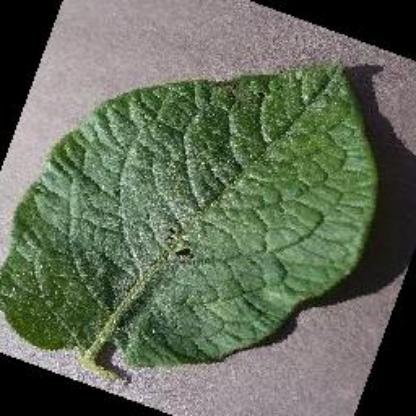Healthy-plant: (0, 59, 380, 381)
